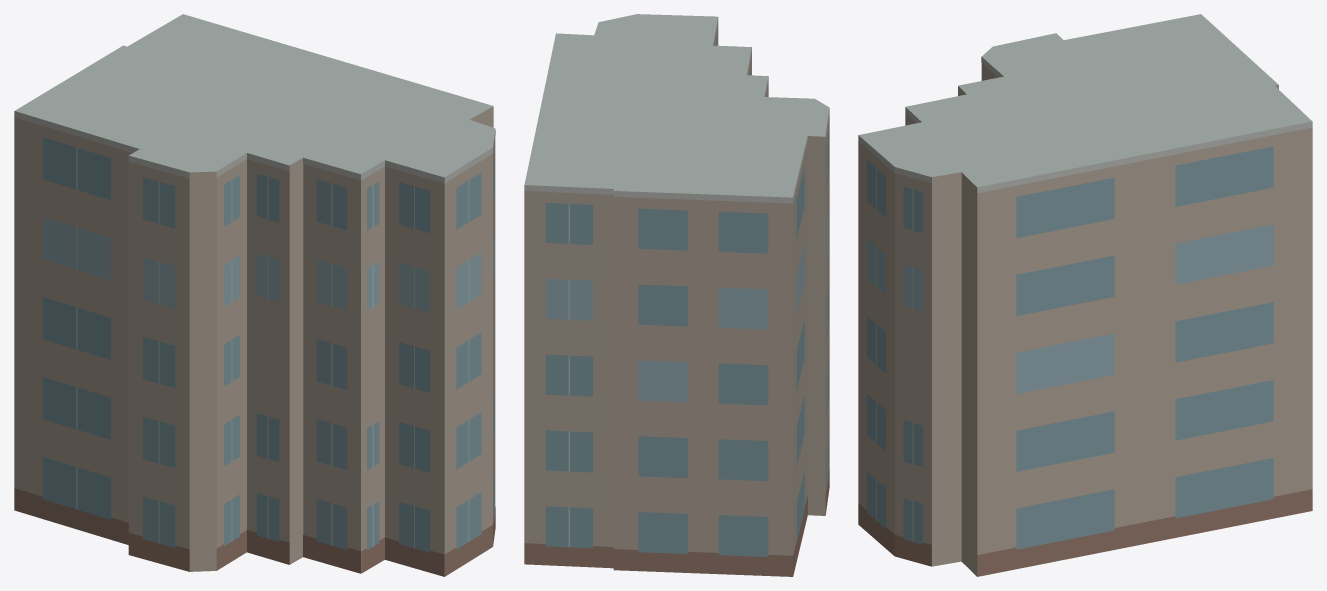
File: survey-upis-32937665.glb
3 views of the same model, side by side, from view 1: azimuth 30°, elevation 25°; view 2: azimuth 150°, elevation 25°; view 3: azimuth 270°, elevation 25° (orthographic). The views are drawn at different scales.
Parts seen in each view (by area): view 1: survey-upis-32937665.tmp; view 2: survey-upis-32937665.tmp; view 3: survey-upis-32937665.tmp.
Boxes of the visible parts, bbox=[...] form: survey-upis-32937665.tmp: bbox=[14, 14, 495, 576]; survey-upis-32937665.tmp: bbox=[524, 14, 829, 576]; survey-upis-32937665.tmp: bbox=[858, 14, 1312, 576].
Bounding box in the file's own units: 15 × 15.7 × 16.6.
